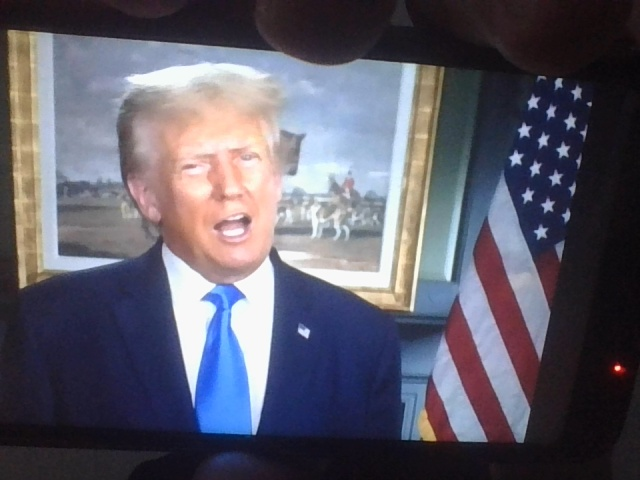fake: (143, 56, 301, 280)
